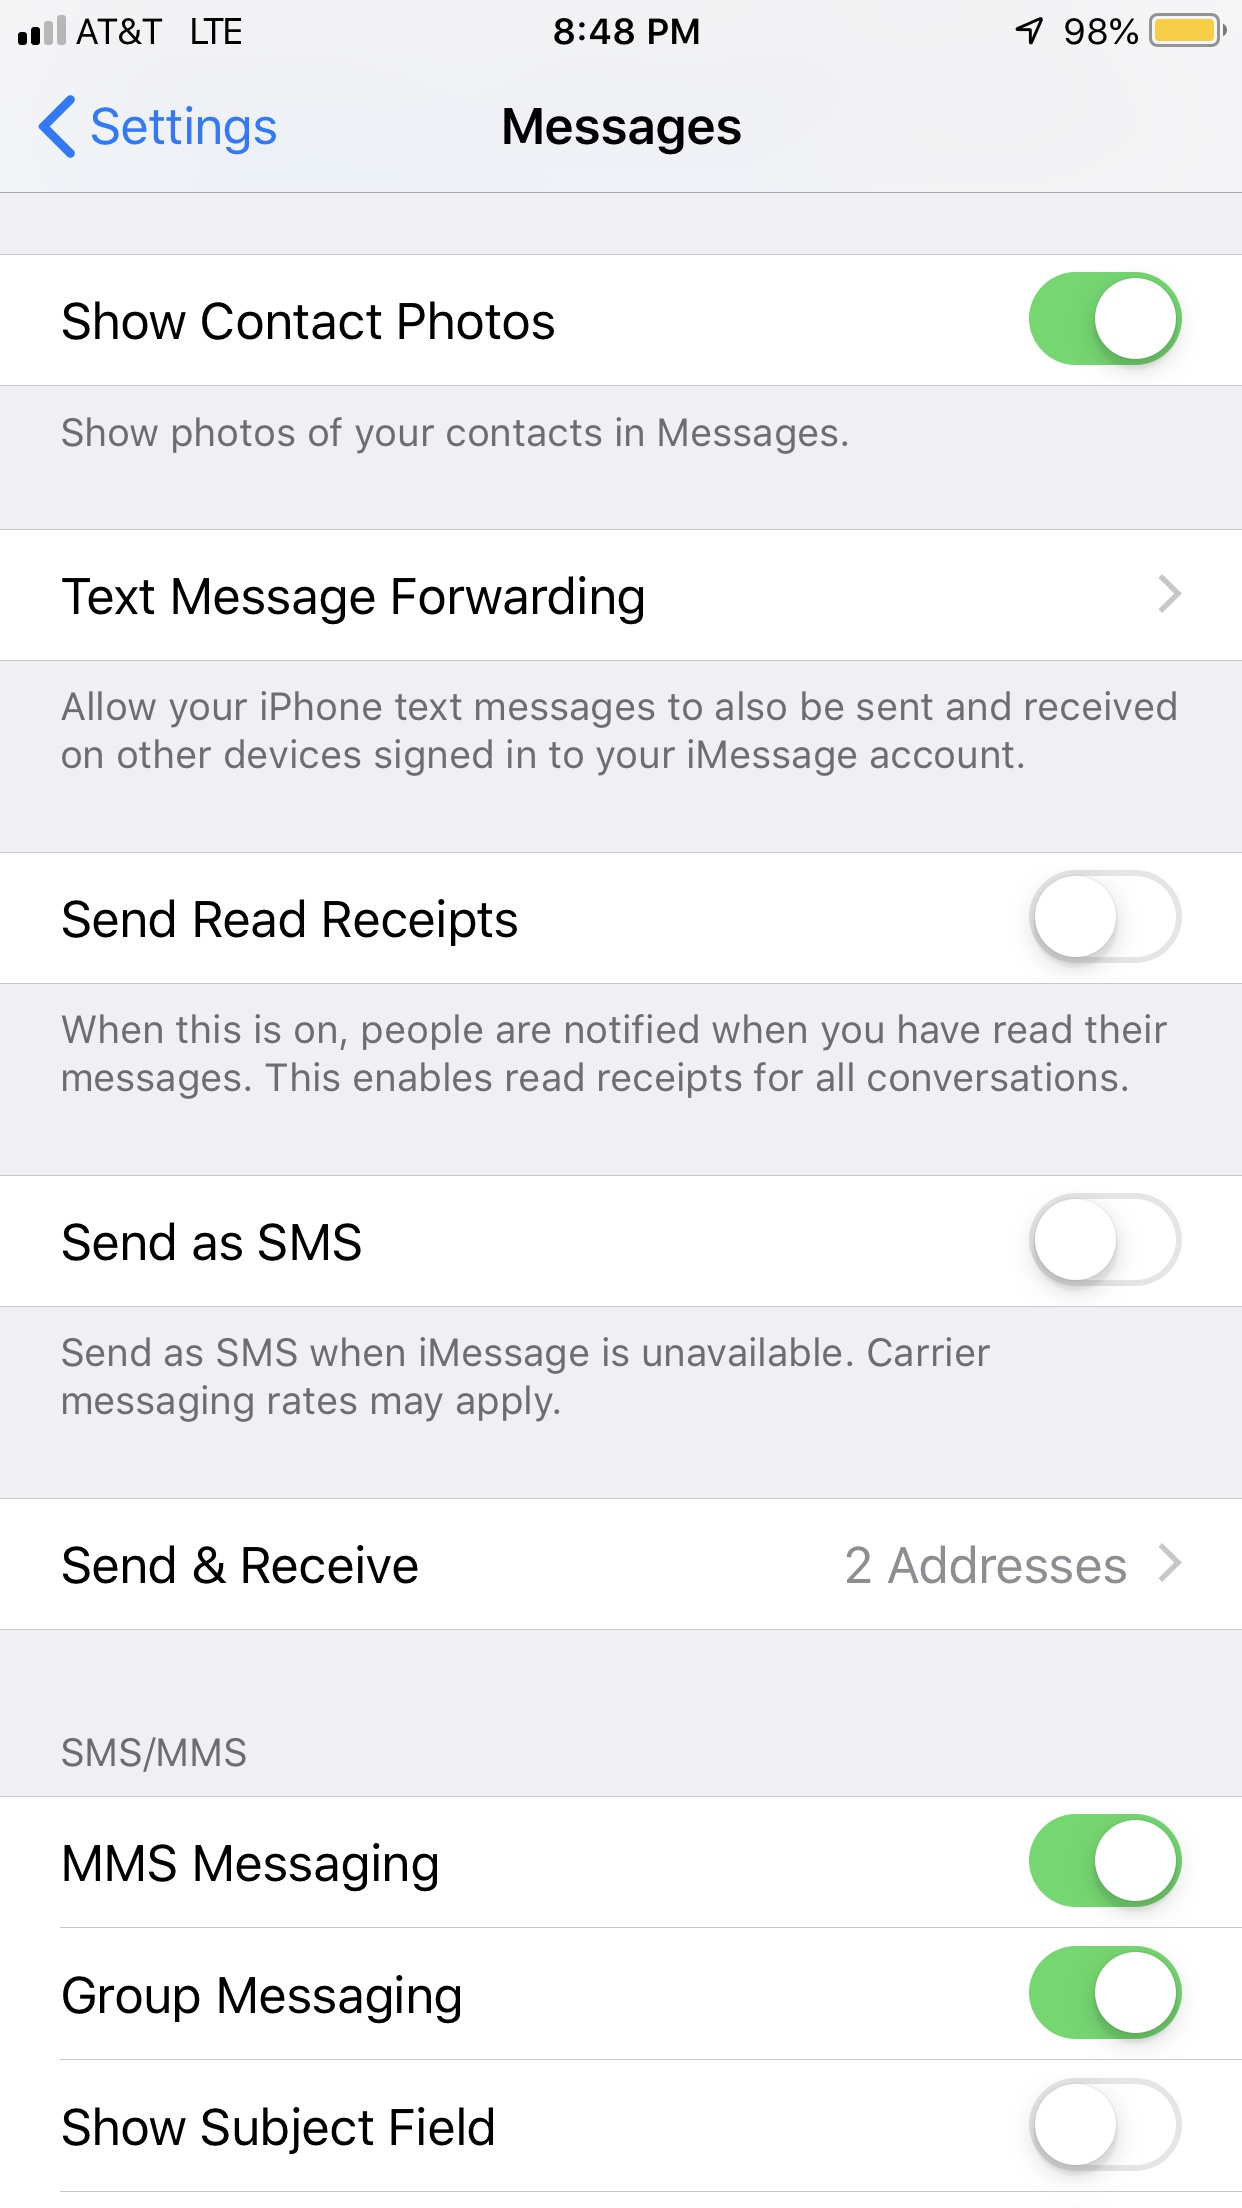Icon: (38, 96, 77, 161), (1159, 1542, 1183, 1583), (1159, 575, 1183, 614)
Switch: (1028, 1192, 1183, 1287), (1030, 869, 1183, 964), (1028, 1946, 1183, 2040), (1030, 2078, 1183, 2172), (1030, 1814, 1183, 1908), (1030, 273, 1183, 367)
Text: (61, 692, 1177, 778), (62, 1013, 1168, 1099), (62, 1336, 990, 1422), (62, 417, 848, 456), (62, 576, 645, 626), (64, 898, 519, 946), (62, 2105, 494, 2155), (64, 300, 557, 341), (62, 1974, 461, 2025), (64, 1843, 438, 1893), (62, 1545, 419, 1586), (64, 1221, 362, 1262), (503, 108, 742, 156), (846, 1545, 1127, 1585), (93, 106, 278, 156), (64, 1736, 249, 1773)
UpperTaskBar: (2, 2, 1242, 49)
